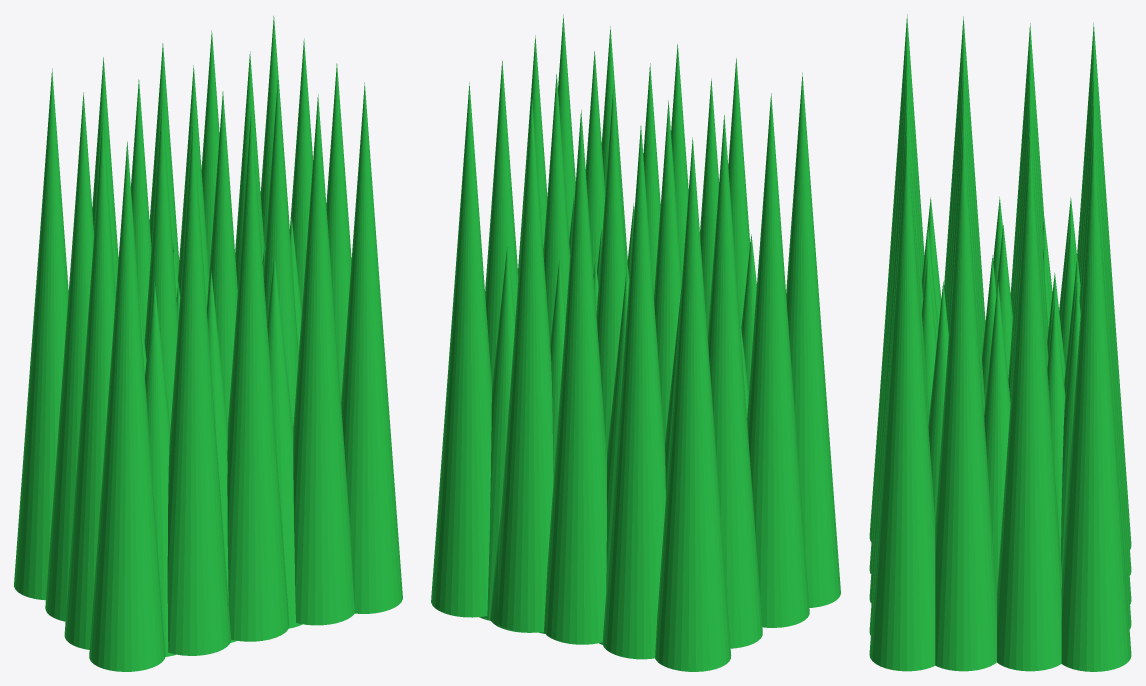
The picture shows the model from 3 angles, left to right: view 1: azimuth 30°, elevation 25°; view 2: azimuth 150°, elevation 25°; view 3: azimuth 270°, elevation 25°; orthographic projection.
Visible parts, largest first — view 1: Cone.019, Cone.018, Cone.016, Cone.017, Cone.015, Cone.010, Cone, Cone.009, Cone.003, Cone.025, Cone.002, Cone.031 (+12 smaller); view 2: Cone.010, Cone.012, Cone.011, Cone.014, Cone, Cone.013, Cone.009, Cone.019, Cone.007, Cone.008, Cone.005, Cone.022 (+13 smaller); view 3: Cone.014, Cone.005, Cone.015, Cone.004, Cone.021, Cone.033, Cone.020, Cone.019, Cone.017, Cone.022, Cone.013, Cone.011 (+22 smaller).
Part boxes in pixels (left/top/right/bottom): Cone.019: left=89, top=141, right=165, bottom=671; Cone.018: left=167, top=125, right=231, bottom=655; Cone.016: left=293, top=94, right=354, bottom=625; Cone.017: left=227, top=111, right=289, bottom=641; Cone.015: left=341, top=82, right=402, bottom=613; Cone.010: left=14, top=68, right=68, bottom=600; Cone: left=64, top=119, right=115, bottom=649; Cone.009: left=45, top=92, right=94, bottom=621; Cone.003: left=263, top=76, right=298, bottom=429; Cone.025: left=267, top=255, right=302, bottom=628; Cone.002: left=206, top=91, right=237, bottom=425; Cone.031: left=145, top=283, right=175, bottom=656; Cone.010: left=655, top=137, right=731, bottom=671; Cone.012: left=544, top=110, right=606, bottom=644; Cone.011: left=602, top=126, right=665, bottom=659; Cone.014: left=431, top=82, right=491, bottom=617; Cone: left=747, top=93, right=809, bottom=627; Cone.013: left=497, top=98, right=553, bottom=632; Cone.009: left=707, top=115, right=762, bottom=648; Cone.019: left=786, top=72, right=840, bottom=607; Cone.007: left=596, top=87, right=628, bottom=454; Cone.008: left=654, top=100, right=681, bottom=443; Cone.005: left=485, top=61, right=518, bottom=387; Cone.022: left=479, top=246, right=515, bottom=620; Cone.014: left=1061, top=132, right=1131, bottom=671; Cone.005: left=997, top=132, right=1061, bottom=671; Cone.015: left=869, top=131, right=935, bottom=671; Cone.004: left=935, top=132, right=996, bottom=671; Cone.021: left=984, top=282, right=1010, bottom=593; Cone.033: left=1047, top=300, right=1065, bottom=556; Cone.020: left=928, top=282, right=948, bottom=520; Cone.019: left=869, top=14, right=924, bottom=541; Cone.017: left=869, top=75, right=923, bottom=603; Cone.022: left=1061, top=281, right=1080, bottom=571; Cone.013: left=1079, top=101, right=1131, bottom=628; Cone.011: left=1078, top=48, right=1131, bottom=575.
Bounding box in the file's own units: 0.9764 × 0.7153 × 1.61.
